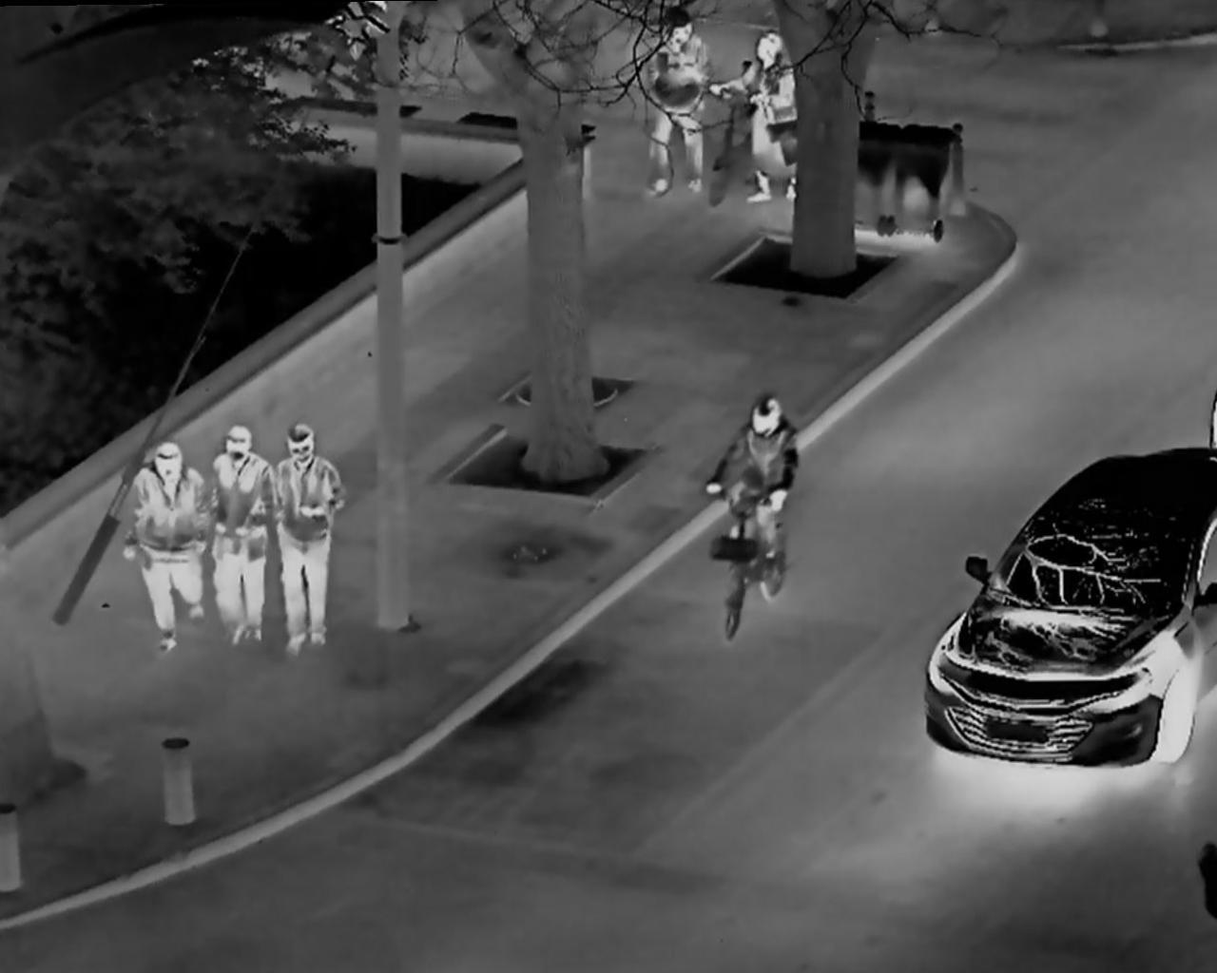person: (710, 381, 811, 619), (267, 420, 356, 649), (126, 439, 205, 639), (208, 420, 274, 658), (724, 28, 802, 214), (650, 15, 713, 202)
